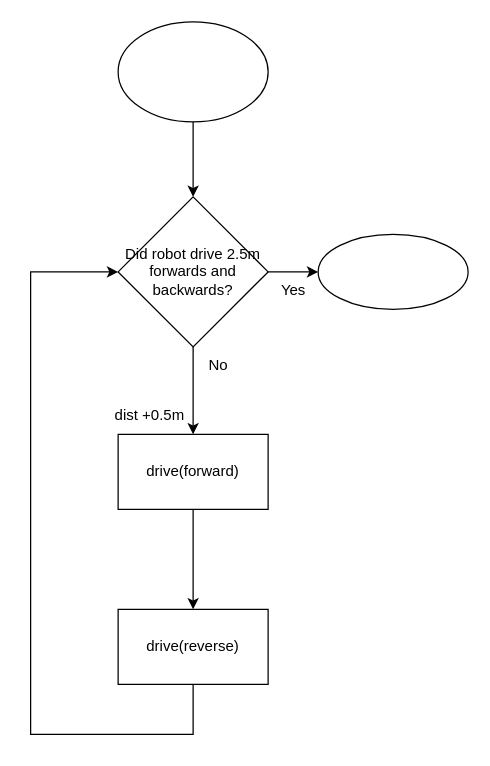
Image size: 490x766. Some labels were removed from this diagram. The shapes that lost their labels are listed below. From the top down, each one's centre as x and y in pixels, then its label:
At (x=192, y=71): "Start".
At (x=392, y=271): "End".
